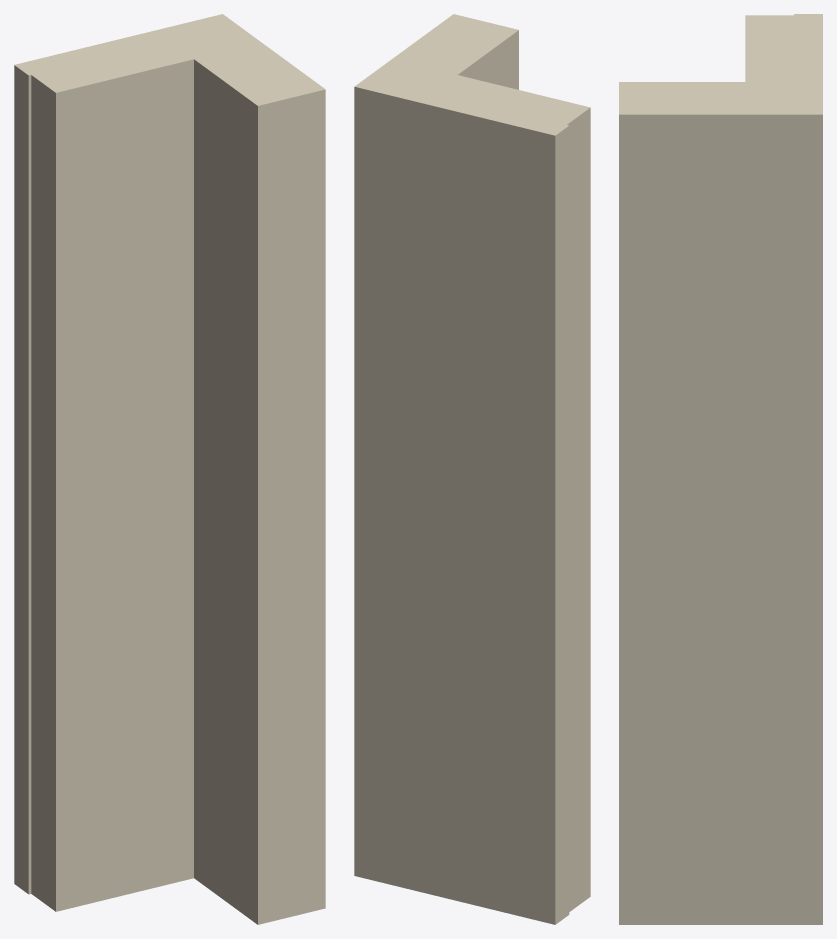
3 renders of one model, left to right at view 1: azimuth 30°, elevation 25°; view 2: azimuth 150°, elevation 25°; view 3: azimuth 270°, elevation 25°, orthographic. The views are drawn at different scales.
Visible parts, largest first — view 1: A-FF-WALL-029; view 2: A-FF-WALL-029; view 3: A-FF-WALL-029.
Part boxes in pixels (bbox=[...]): A-FF-WALL-029: bbox=[14, 14, 325, 924]; A-FF-WALL-029: bbox=[354, 14, 590, 924]; A-FF-WALL-029: bbox=[619, 14, 822, 924].
Bounding box in the file's own units: 0.645 × 2.42 × 0.552.
